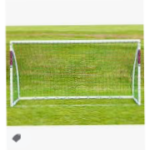goals: (7, 38, 143, 107)
